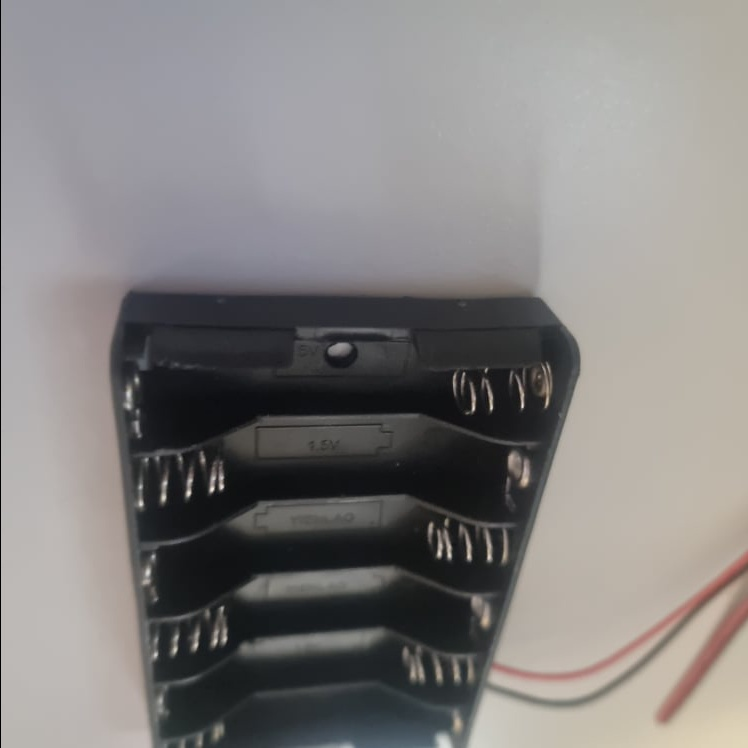BATTERY BOX: (108, 292, 579, 748)
